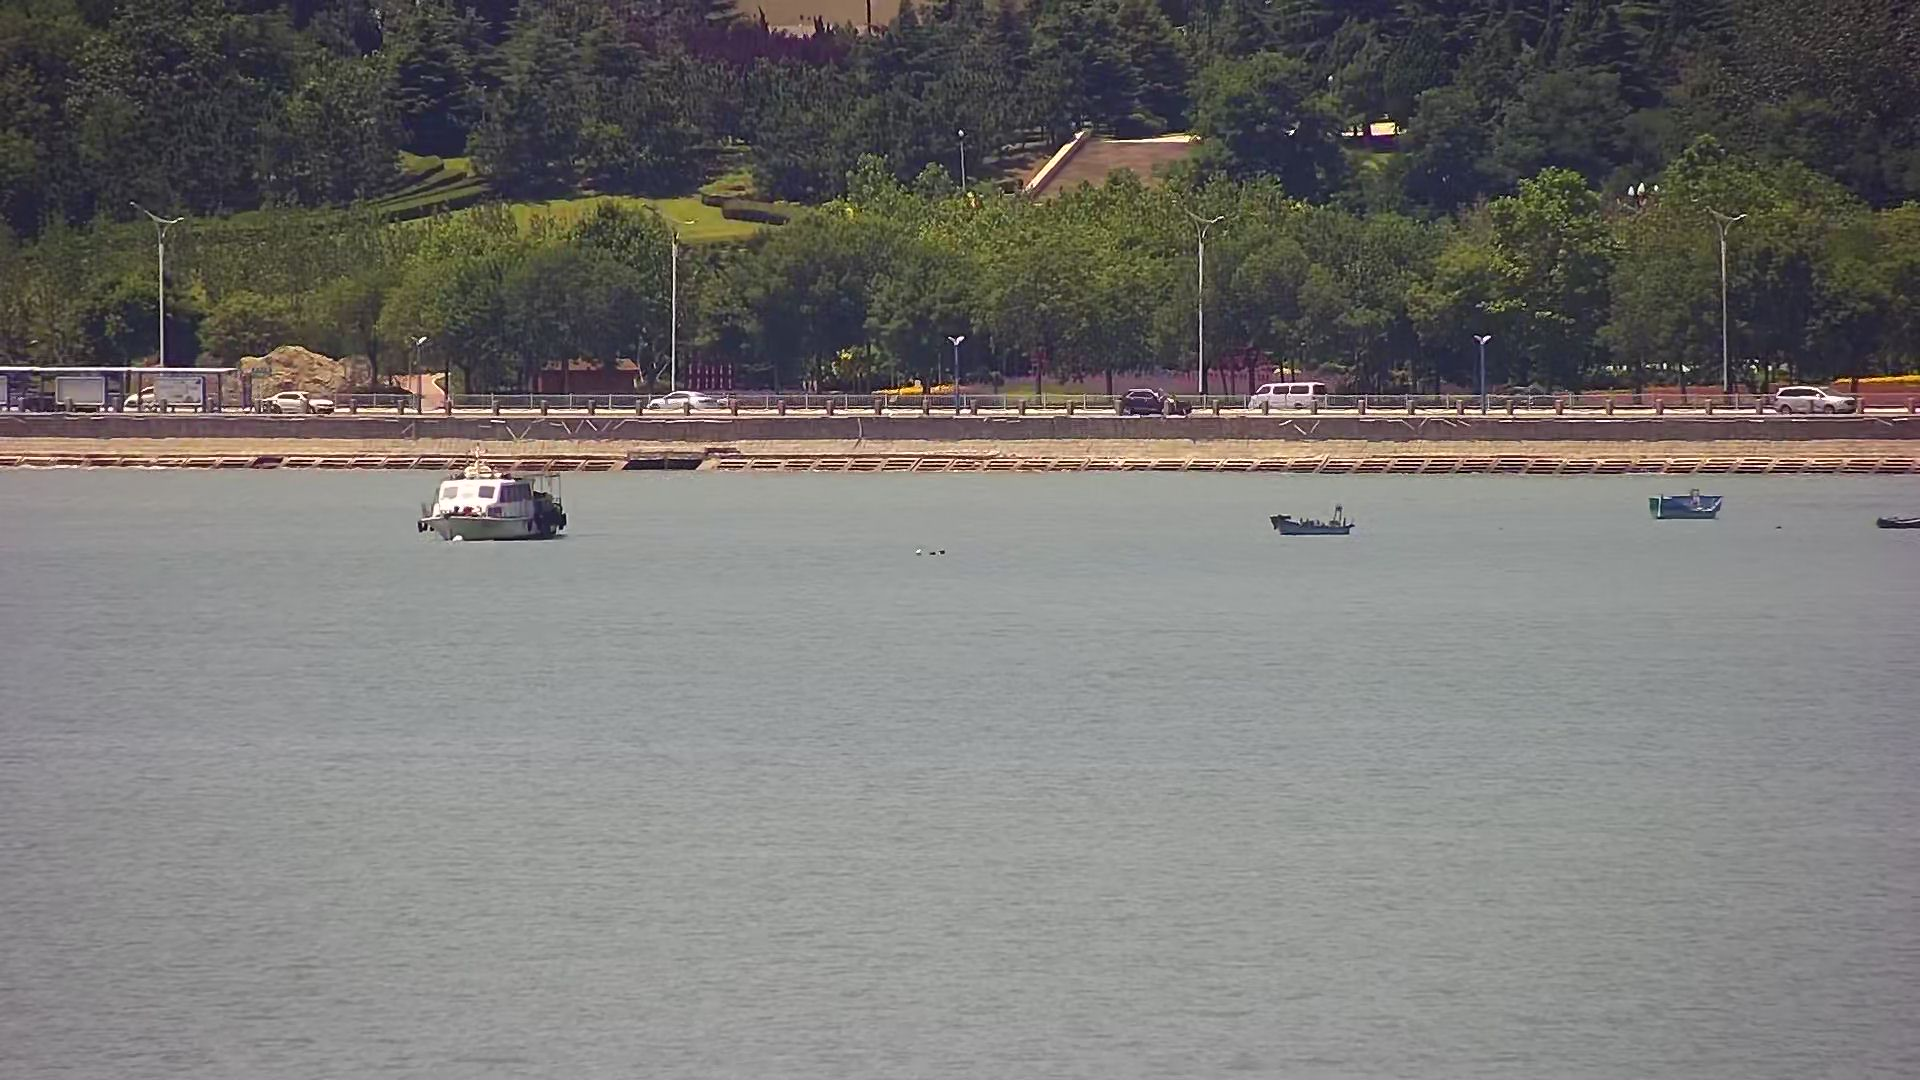boat: (1263, 497, 1360, 541), (1648, 483, 1729, 530), (1871, 508, 1920, 537)
ship: (414, 446, 578, 553)
